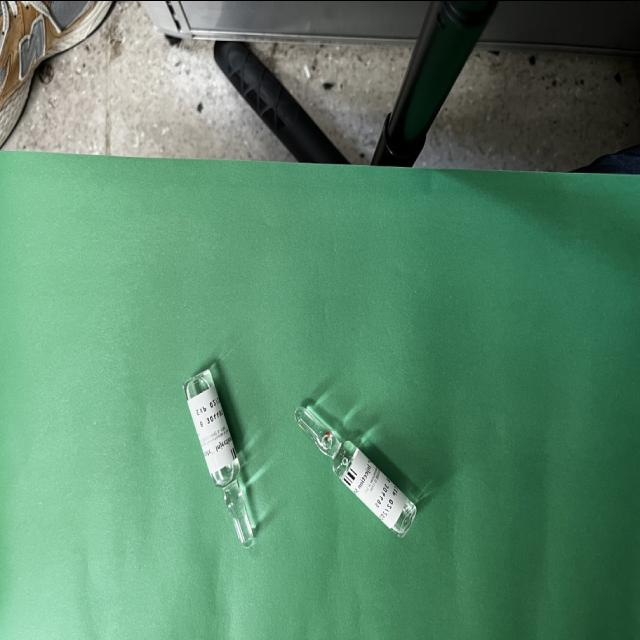Ampoules: (294, 405, 417, 535), (183, 367, 254, 545)
